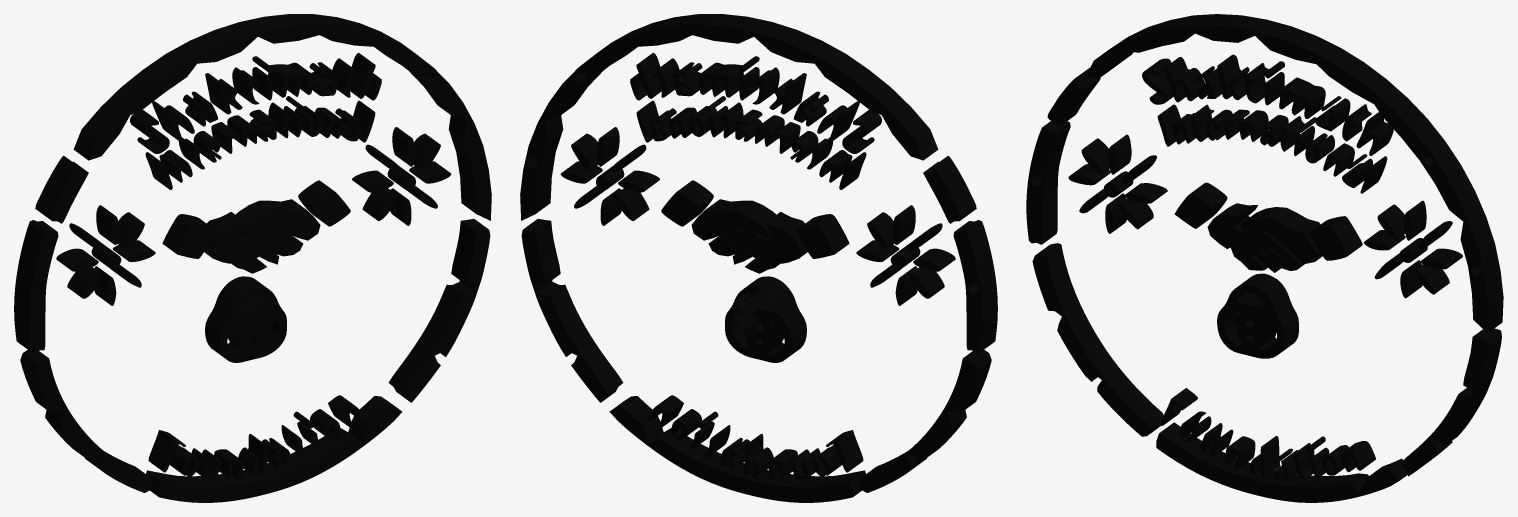
Rendered from shaktimath-international-foundation.glb.
3 renders of one model, left to right at view 1: azimuth 30°, elevation 25°; view 2: azimuth 150°, elevation 25°; view 3: azimuth 330°, elevation 25°, orthographic.
Parts seen in each view (by area): view 1: Curve; view 2: Curve; view 3: Curve.
Part boxes in pixels (box(x1,y1,x2,y2)): Curve: box(14, 14, 491, 502); Curve: box(520, 14, 997, 502); Curve: box(1026, 14, 1503, 502).
Size of the model in its own units: 0.0886 by 0.0849 by 0.005.
1 material, 1 textured.
